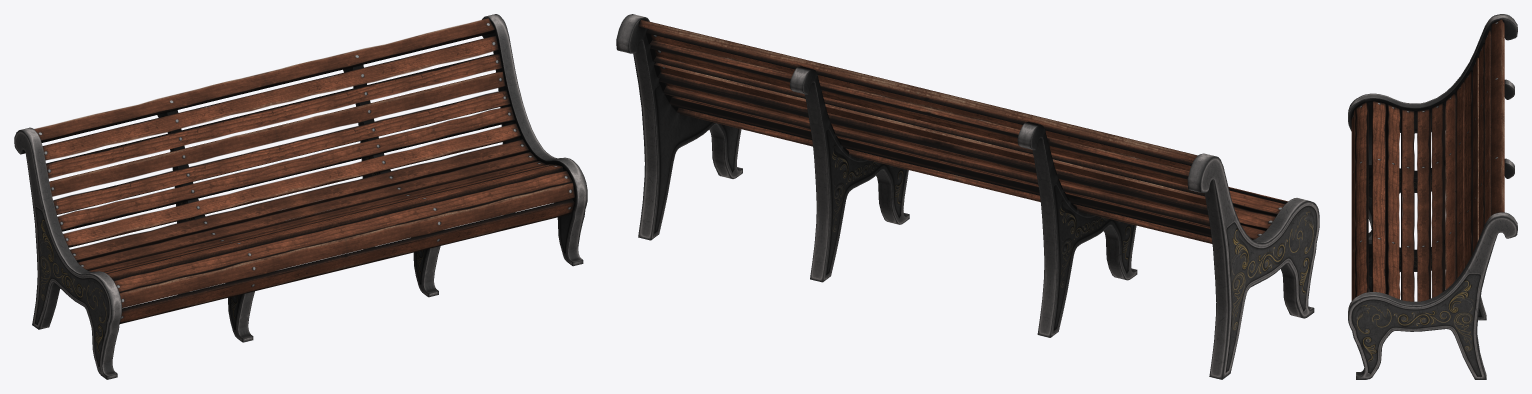
3 renders of one model, left to right at view 1: azimuth 30°, elevation 25°; view 2: azimuth 150°, elevation 25°; view 3: azimuth 270°, elevation 25°, orthographic. The views are drawn at different scales.
Parts seen in each view (by area): view 1: Object_2; view 2: Object_2; view 3: Object_2.
Part boxes in pixels (x1,y1,x2,y2): Object_2: [14, 14, 587, 379]; Object_2: [616, 14, 1319, 379]; Object_2: [1348, 14, 1517, 379].
Bounding box in the file's own units: 4.09 × 1.53 × 1.45.
Materials: 1 (1 with a texture image).
